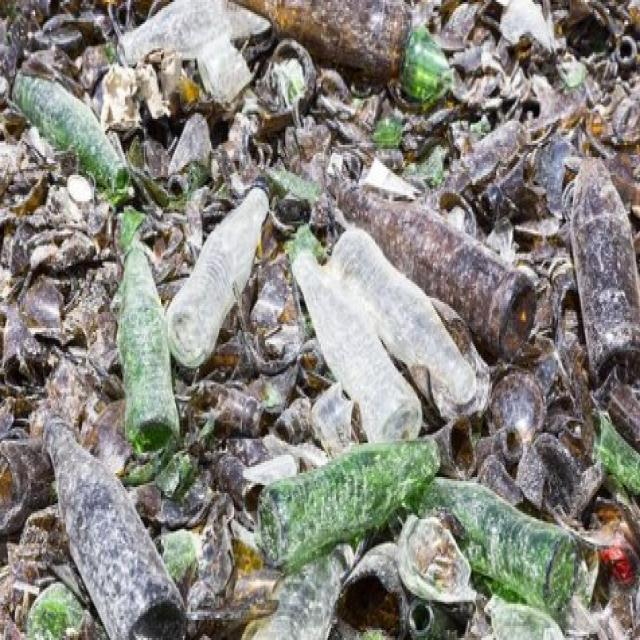electronic: (14, 58, 584, 640)
